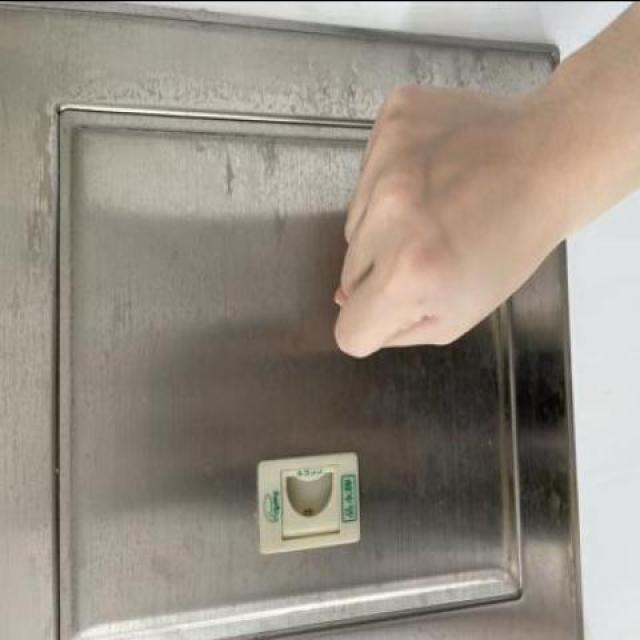Closed Hand: (322, 75, 554, 373)
